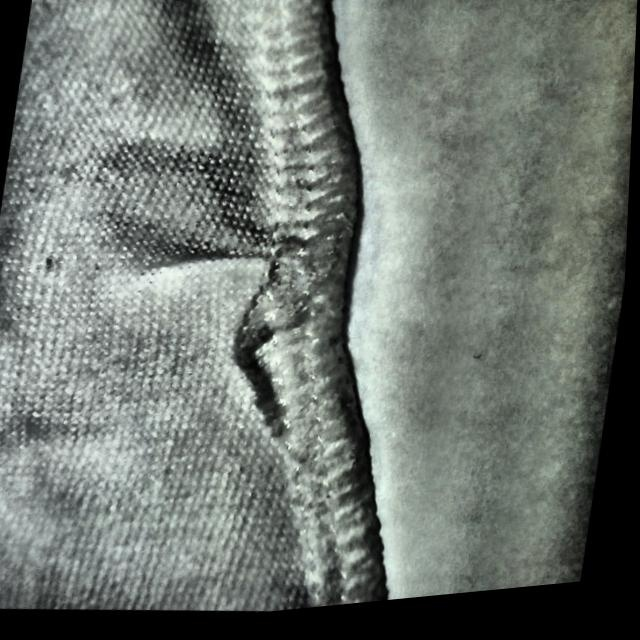seam: (126, 185, 385, 454)
